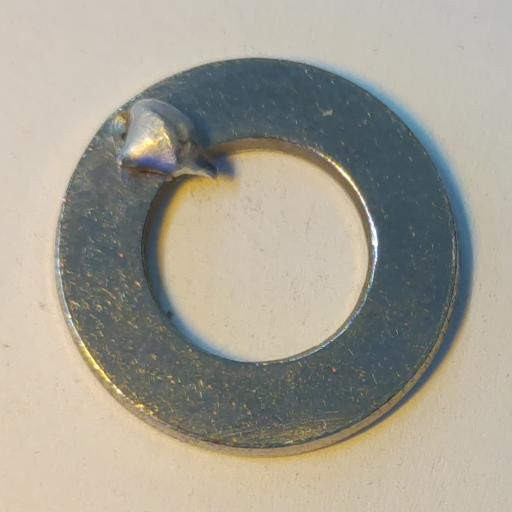excess_material: (116, 99, 218, 180)
